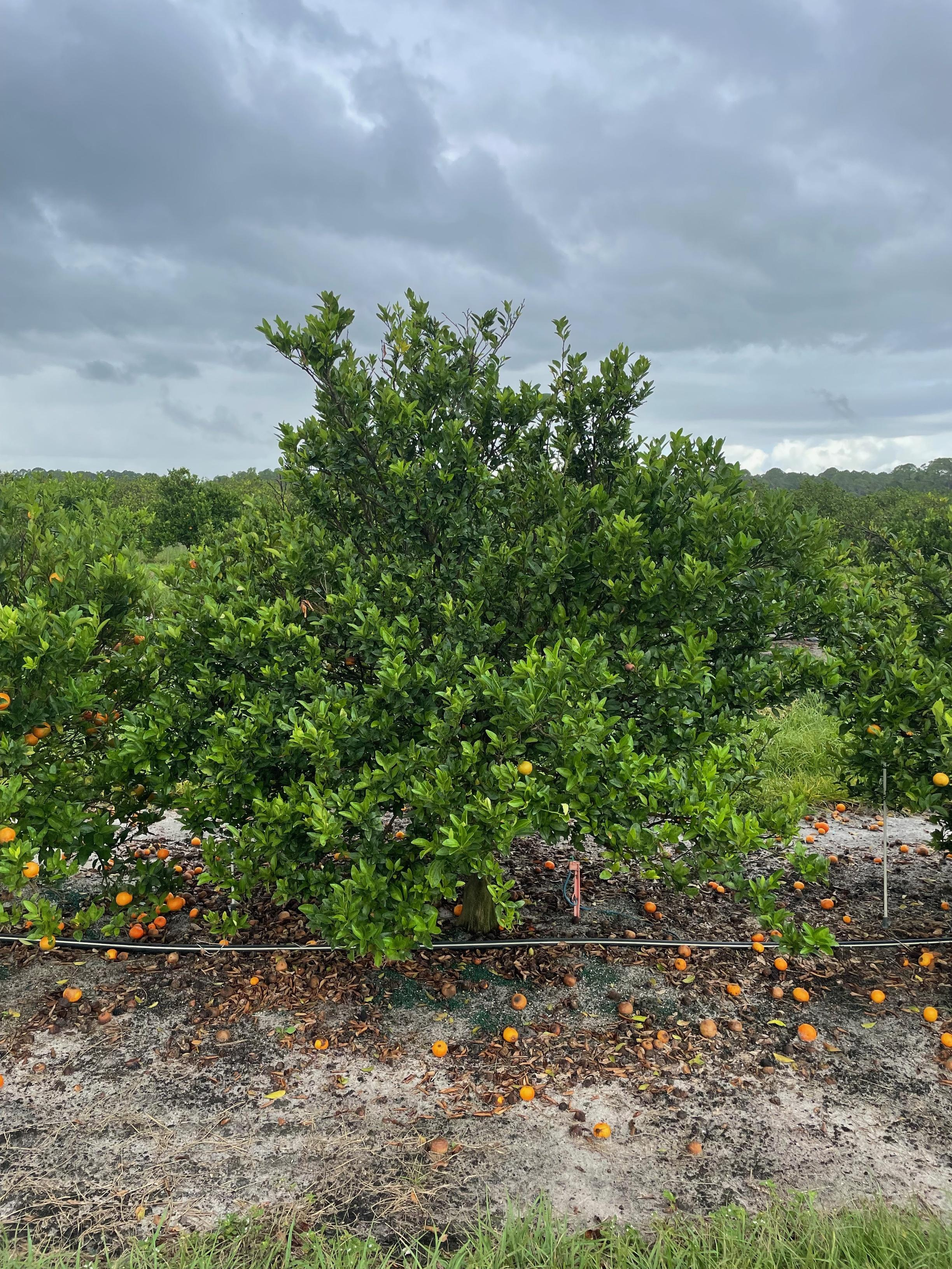fruit_on_ground: (30, 719, 53, 739), (21, 860, 41, 879), (931, 769, 950, 788), (165, 895, 185, 913), (0, 825, 18, 845), (47, 570, 68, 587), (38, 934, 57, 952), (91, 709, 110, 727), (516, 758, 534, 777), (865, 720, 884, 737), (114, 890, 132, 906), (0, 689, 13, 711), (21, 732, 38, 747), (130, 783, 146, 797), (132, 632, 148, 646), (80, 707, 95, 721), (623, 661, 638, 674), (343, 654, 358, 667), (108, 709, 121, 722), (57, 849, 70, 861)
fruit_on_tree: (428, 1134, 451, 1156), (796, 1022, 818, 1043), (591, 1120, 612, 1141), (508, 991, 529, 1012), (429, 1038, 450, 1058), (501, 1024, 520, 1044), (698, 1018, 718, 1037), (791, 986, 812, 1004), (439, 980, 458, 999), (616, 998, 635, 1017), (917, 949, 936, 967), (518, 1083, 536, 1101), (922, 1004, 940, 1022), (63, 986, 83, 1002), (868, 988, 886, 1004), (215, 1027, 233, 1042), (562, 972, 578, 988), (653, 1027, 670, 1042), (313, 1036, 330, 1051), (726, 1017, 743, 1032), (750, 939, 766, 954), (773, 956, 789, 971), (672, 956, 688, 971), (726, 981, 742, 996), (770, 985, 786, 1000), (134, 911, 150, 925), (277, 909, 293, 923), (452, 900, 466, 916), (128, 925, 144, 939), (939, 1031, 952, 1048), (273, 958, 288, 972), (622, 926, 637, 940), (165, 951, 180, 965), (642, 899, 657, 913), (332, 849, 347, 862), (816, 820, 831, 833), (677, 944, 692, 957), (820, 897, 835, 910), (509, 888, 522, 902), (898, 954, 912, 967), (154, 915, 168, 928), (157, 847, 170, 860), (145, 921, 159, 933), (792, 880, 806, 892), (915, 844, 929, 856), (706, 879, 721, 890), (651, 909, 664, 921), (103, 859, 116, 871), (153, 905, 166, 917), (938, 898, 950, 911), (105, 947, 118, 959), (543, 858, 556, 870), (713, 884, 727, 895), (841, 913, 853, 925), (768, 927, 781, 938), (249, 973, 260, 986), (393, 830, 406, 841), (751, 932, 765, 942), (211, 853, 223, 864), (835, 801, 847, 812), (898, 843, 910, 854), (189, 836, 201, 847), (188, 907, 200, 918), (132, 848, 145, 858), (533, 855, 545, 865), (191, 864, 203, 874), (140, 846, 151, 856), (828, 853, 839, 863), (172, 862, 183, 872), (869, 823, 880, 832), (805, 834, 816, 843), (817, 827, 826, 836), (876, 820, 886, 828), (872, 855, 882, 863)
